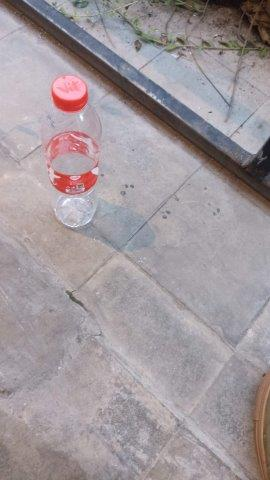botolplastik: (41, 75, 101, 230)
